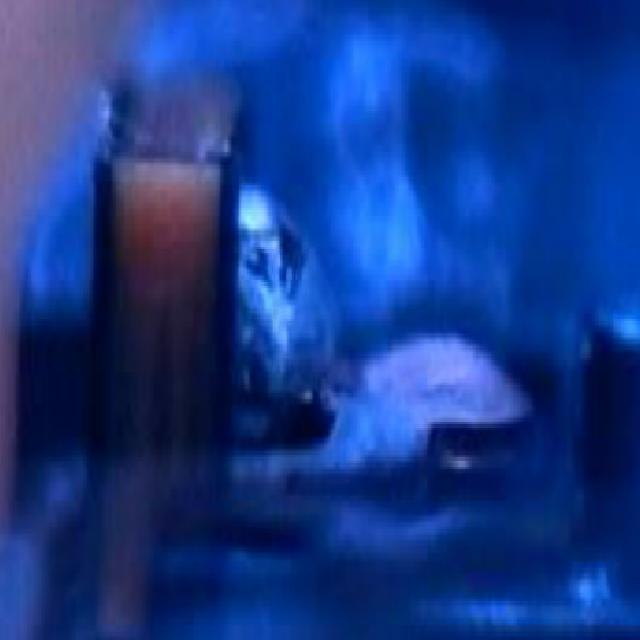No Good: (219, 176, 349, 462)
